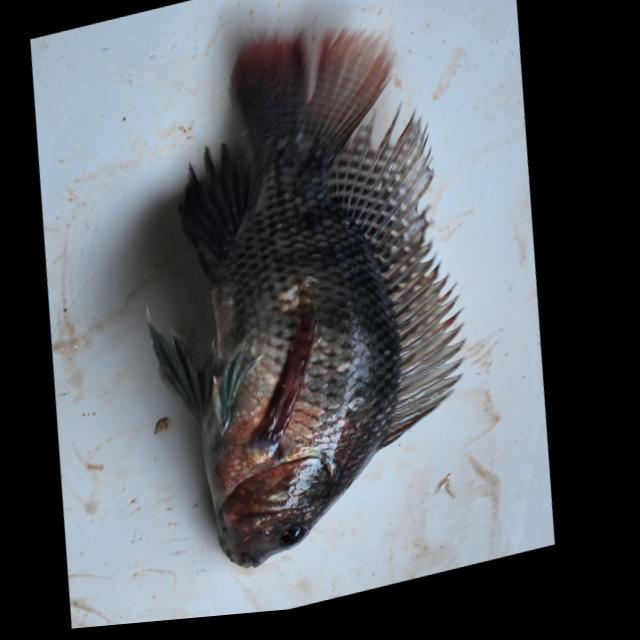Tilapia: (80, 0, 525, 596)
